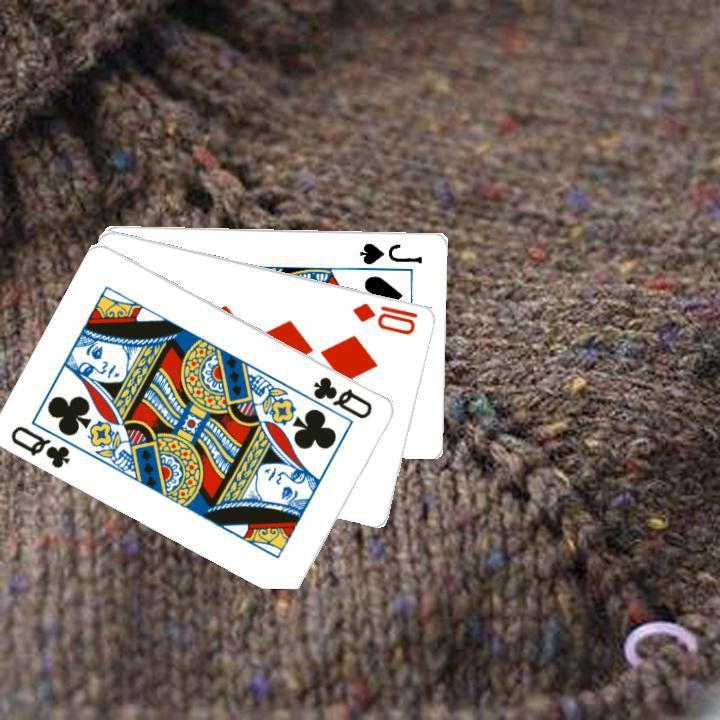10: (349, 298, 420, 337)
J: (355, 238, 424, 266)
Q: (6, 420, 73, 470), (309, 372, 375, 421)
